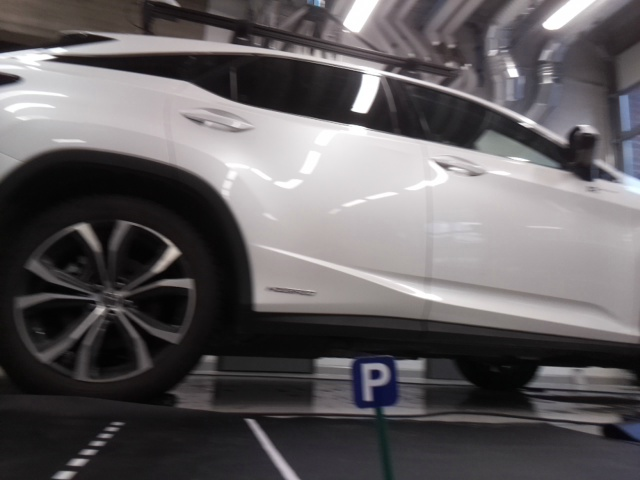Parking: (349, 357, 395, 406)
